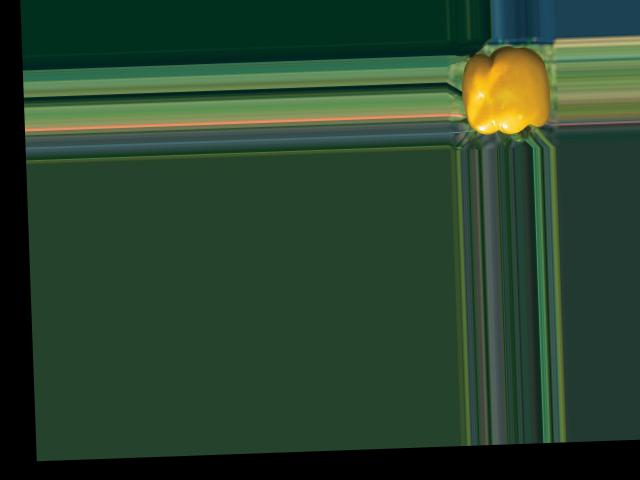bell_pepper: (453, 44, 556, 144)
